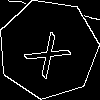X: (23, 24, 80, 79)
